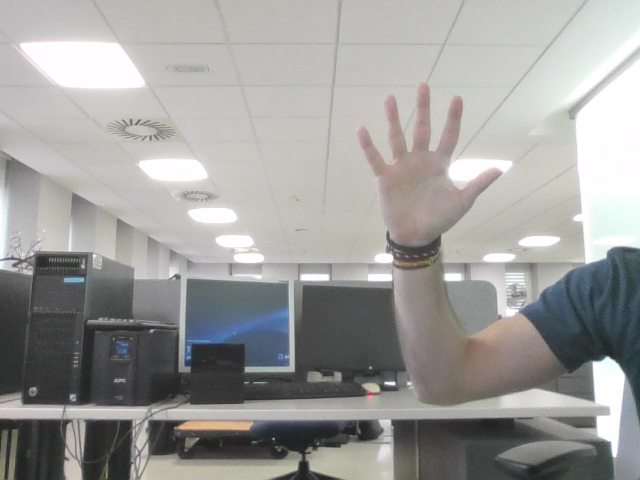Mano Abierta: (367, 95, 489, 215)
